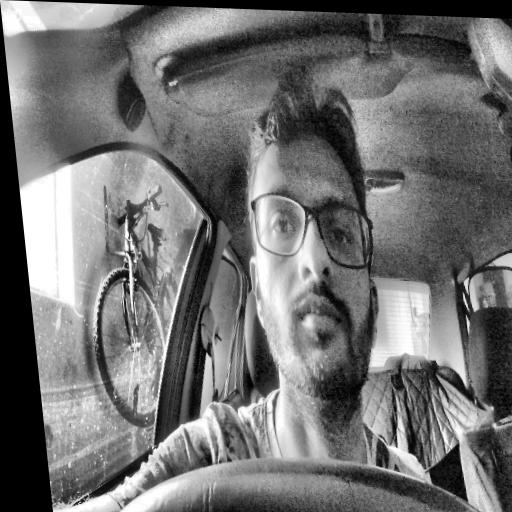awake: (227, 71, 394, 412)
